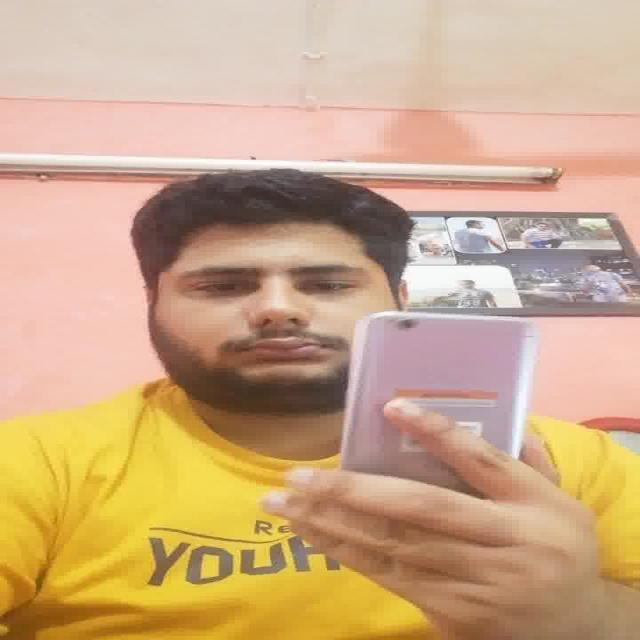Phone: (337, 310, 542, 479)
